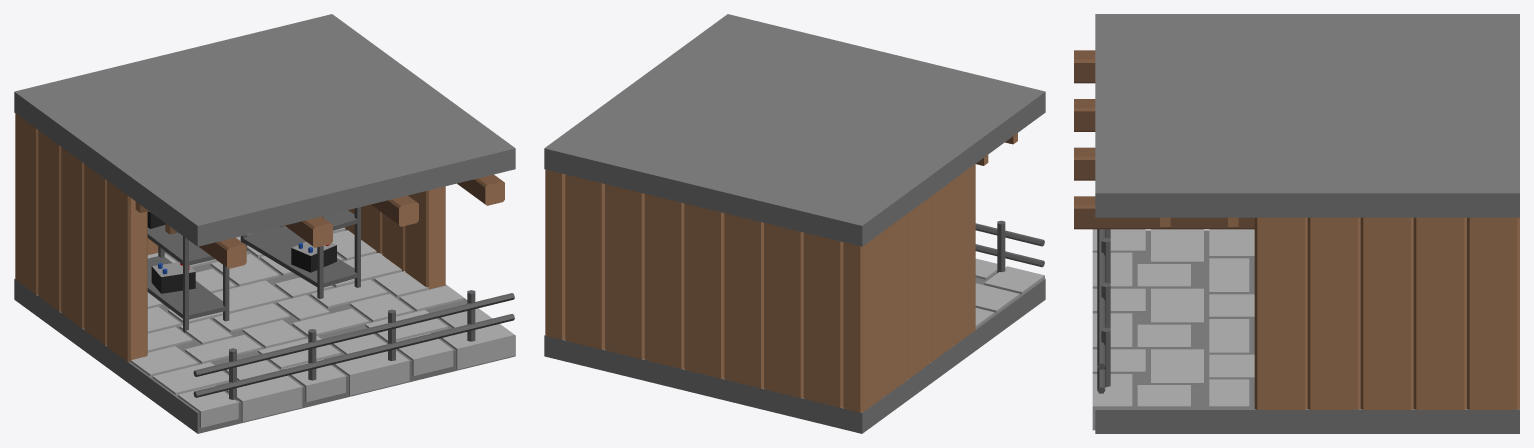
The model's file is BatteryRom_Lvl_01_Straight.fbx.
3 renders of one model, left to right at view 1: azimuth 30°, elevation 25°; view 2: azimuth 150°, elevation 25°; view 3: azimuth 270°, elevation 25°, orthographic. The views are drawn at different scales.
Visible parts, largest first — view 1: BatteryRom_Lvl_01_Straight; view 2: BatteryRom_Lvl_01_Straight; view 3: BatteryRom_Lvl_01_Straight.
Part boxes in pixels (<box>): BatteryRom_Lvl_01_Straight: <box>14,14,515,433</box>; BatteryRom_Lvl_01_Straight: <box>544,14,1045,433</box>; BatteryRom_Lvl_01_Straight: <box>1074,14,1519,433</box>.
Size of the model in its own units: 8 by 5 by 8.4.
